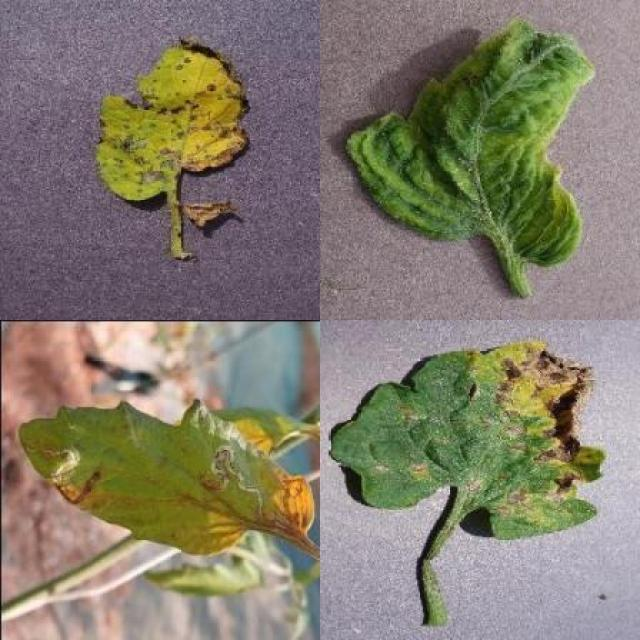Leaf Miner: (15, 396, 318, 561)
Septoria: (329, 338, 607, 546), (96, 35, 250, 202)
Yellow Leaf Curl Virus: (342, 20, 598, 267)
